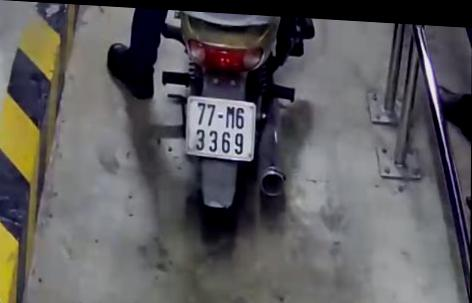License_Plate: (176, 90, 261, 169)
